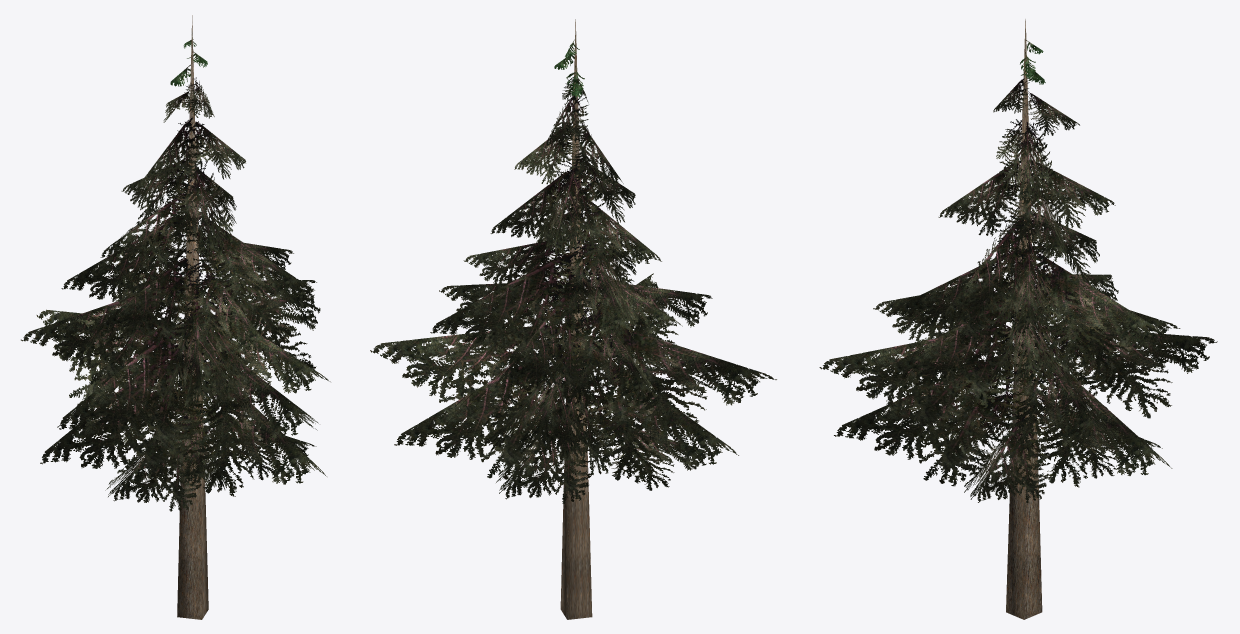
File: ever_pinetree_small_l1.fbx
The picture shows the model from 3 angles, left to right: view 1: azimuth 30°, elevation 25°; view 2: azimuth 150°, elevation 25°; view 3: azimuth 270°, elevation 25°; orthographic projection.
Visible parts, largest first — view 1: mesh_node; view 2: mesh_node; view 3: mesh_node.
Boxes of the visible parts, x1,y1,x2,y2 form: mesh_node: [21, 15, 330, 619]; mesh_node: [370, 19, 776, 619]; mesh_node: [819, 19, 1217, 619].
Size of the model in its own units: 6.12 by 10.12 by 6.35.
